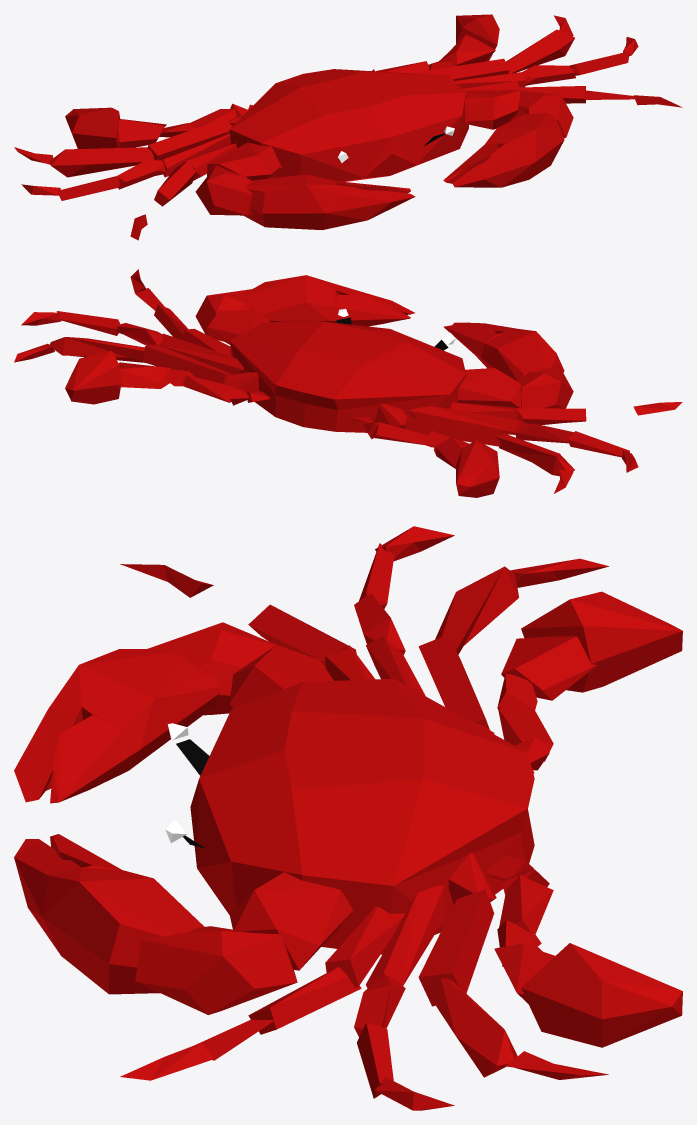
The picture shows the model from 3 angles, top to bottom: view 1: azimuth 30°, elevation 25°; view 2: azimuth 150°, elevation 25°; view 3: azimuth 270°, elevation 25°; orthographic projection. The views are drawn at different scales.
Parts seen in each view (by area): view 1: Crab; view 2: Crab; view 3: Crab.
Boxes of the visible parts, x1,y1,x2,y2 form: Crab: (14, 14, 682, 240); Crab: (14, 269, 682, 497); Crab: (14, 526, 682, 1110).
Size of the model in its own units: 0.6796 by 0.0654 by 0.3358.
Materials: 1 (1 with a texture image).
